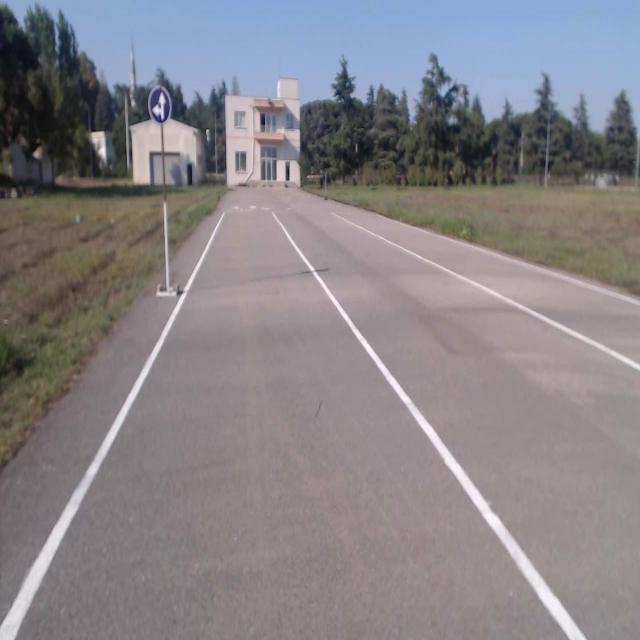ilerisol: (150, 84, 172, 126)
